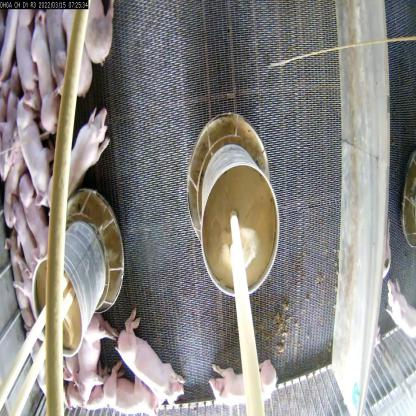Pig: (112, 317, 185, 407), (52, 109, 114, 209), (75, 305, 117, 415), (207, 360, 281, 416), (15, 163, 56, 262), (71, 0, 117, 76), (10, 165, 46, 252), (27, 17, 55, 128), (14, 105, 42, 199)
